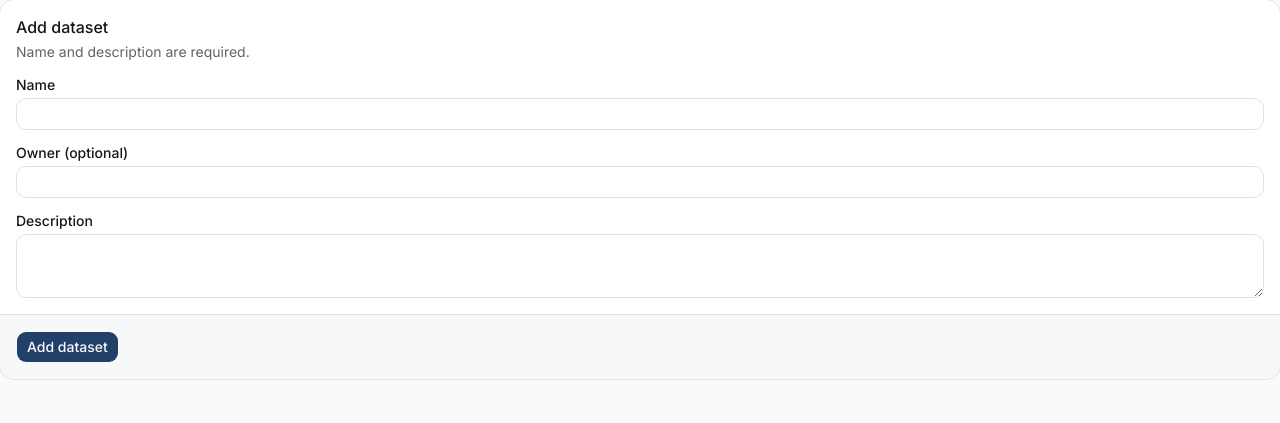
Scenario: AddDatasetForm › shows the error once the user leaves a required field empty
The image size is (1280, 423).
Click the field labelled "Name". click: {"x": 640, "y": 114}
box: [16,98,1264,130]
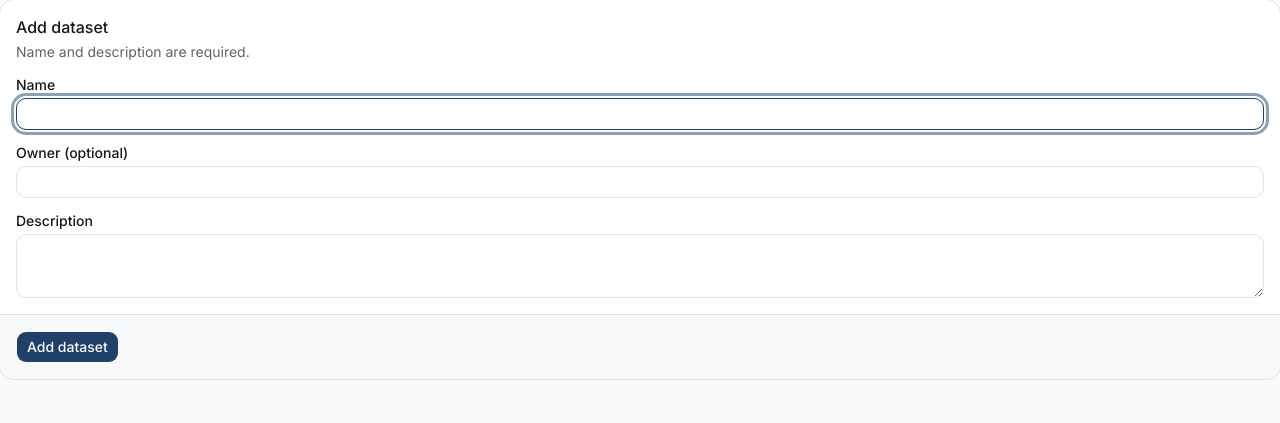
Press Tab
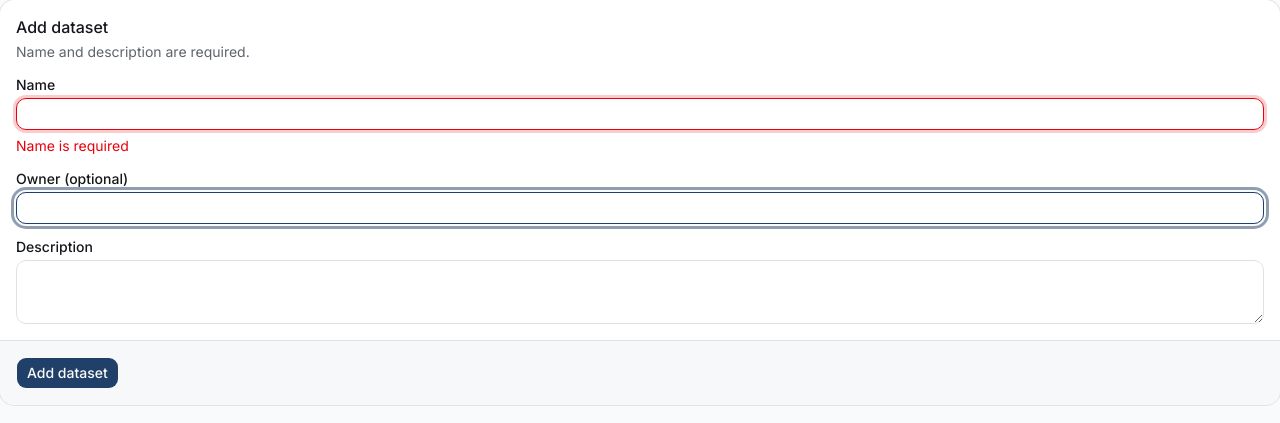
Check: the text "Name is required" is shown, box [16,137,129,154]
